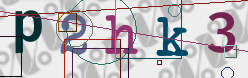2: (60, 13, 88, 56)
3: (206, 11, 237, 54)
h: (104, 14, 138, 56)
k: (156, 15, 190, 57)
p: (14, 9, 43, 55)
